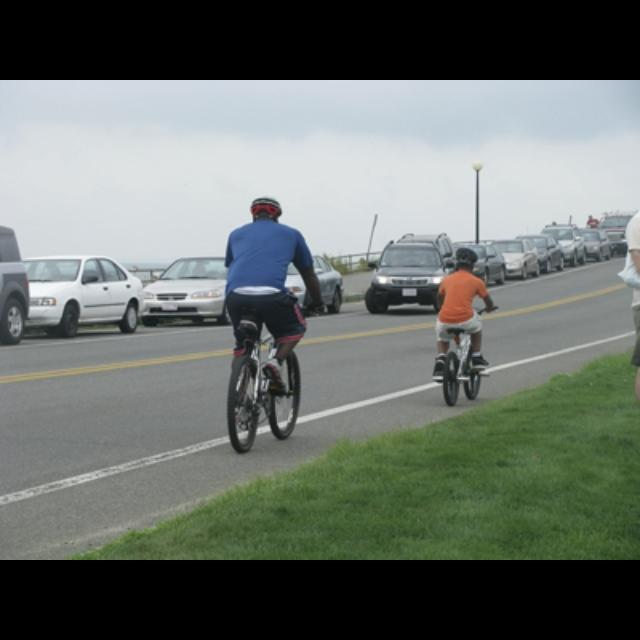With Helmet: (245, 193, 287, 230), (453, 244, 479, 272)
